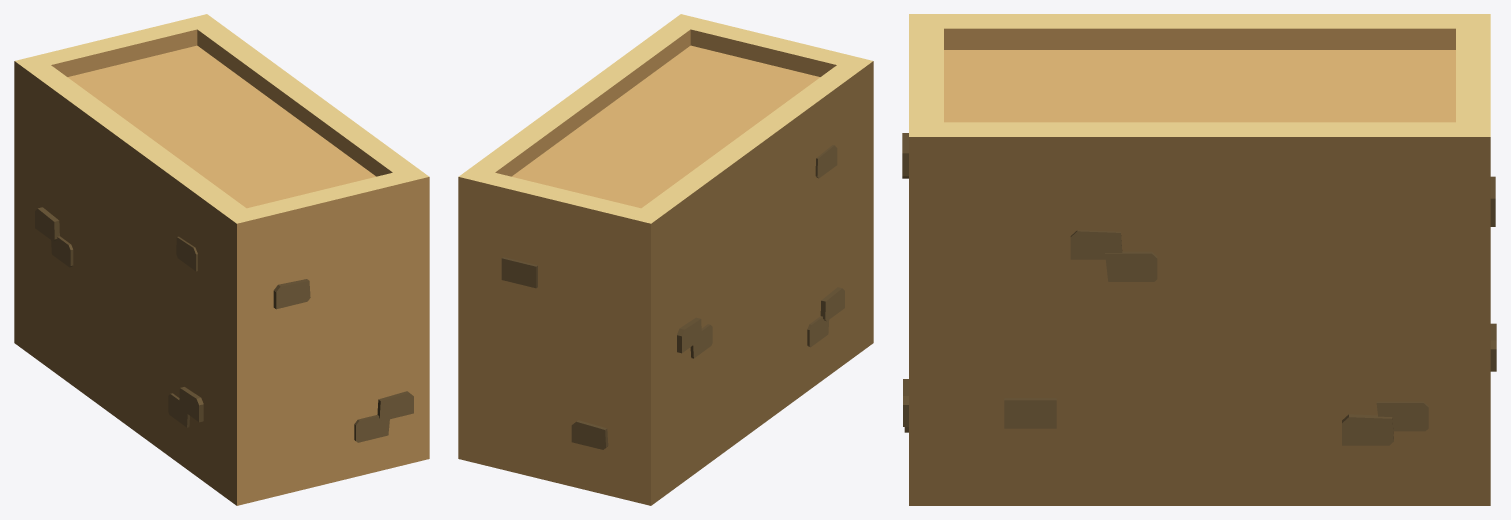
The model's file is TB_D_Bd_Body_Med_Yel.FBX.
The picture shows the model from 3 angles, left to right: view 1: azimuth 30°, elevation 25°; view 2: azimuth 150°, elevation 25°; view 3: azimuth 270°, elevation 25°; orthographic projection. The views are drawn at different scales.
Visible parts, largest first — view 1: TB_D_Bd_Body_Med_Yel; view 2: TB_D_Bd_Body_Med_Yel; view 3: TB_D_Bd_Body_Med_Yel.
Boxes of the visible parts, x1=… form: TB_D_Bd_Body_Med_Yel: x1=14, y1=14, x2=429, y2=505; TB_D_Bd_Body_Med_Yel: x1=458, y1=14, x2=873, y2=505; TB_D_Bd_Body_Med_Yel: x1=902, y1=14, x2=1496, y2=505.
Bounding box in the file's own units: 2.63 × 3.5 × 5.11.
